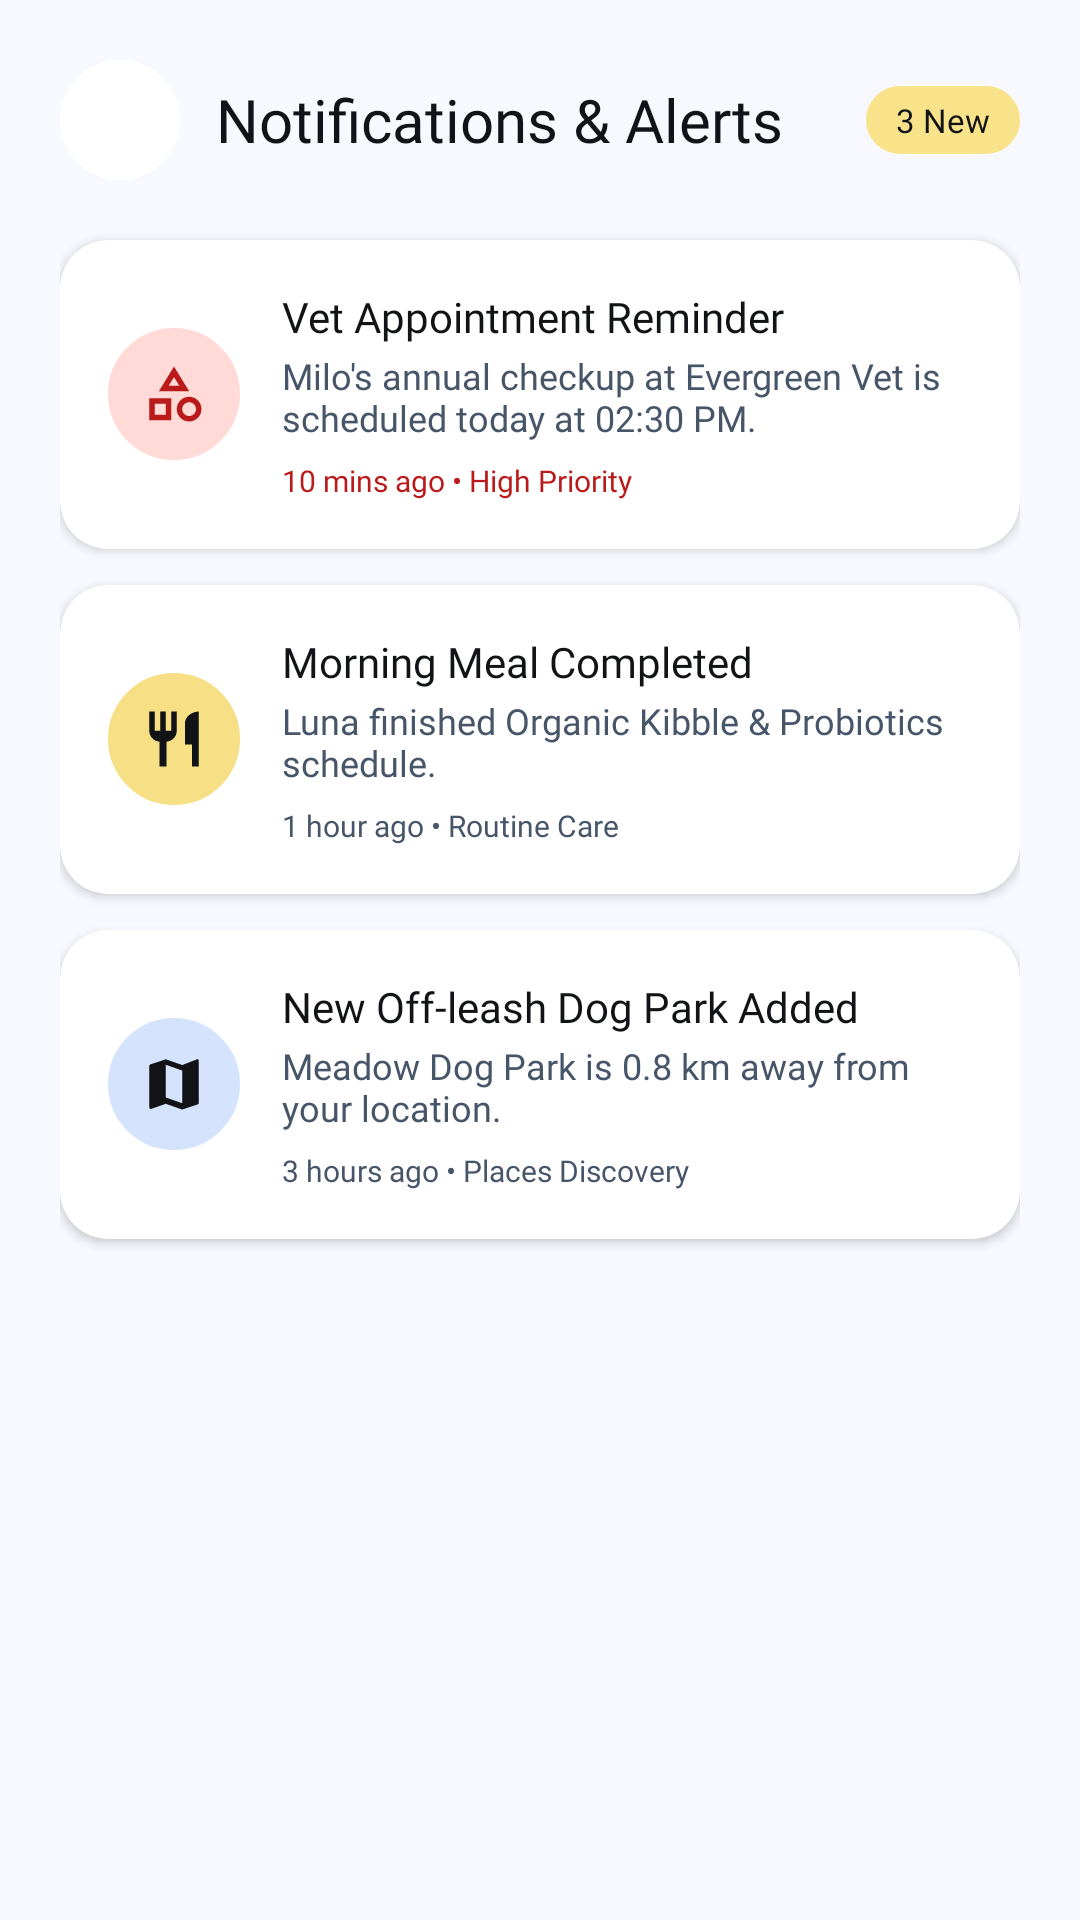

Screen size 1080 x 1920. Icon name, then its box in pixels as (x1, y1, x2, y2):
map: (149, 1059, 199, 1110)
restaurant: (149, 711, 199, 767)
